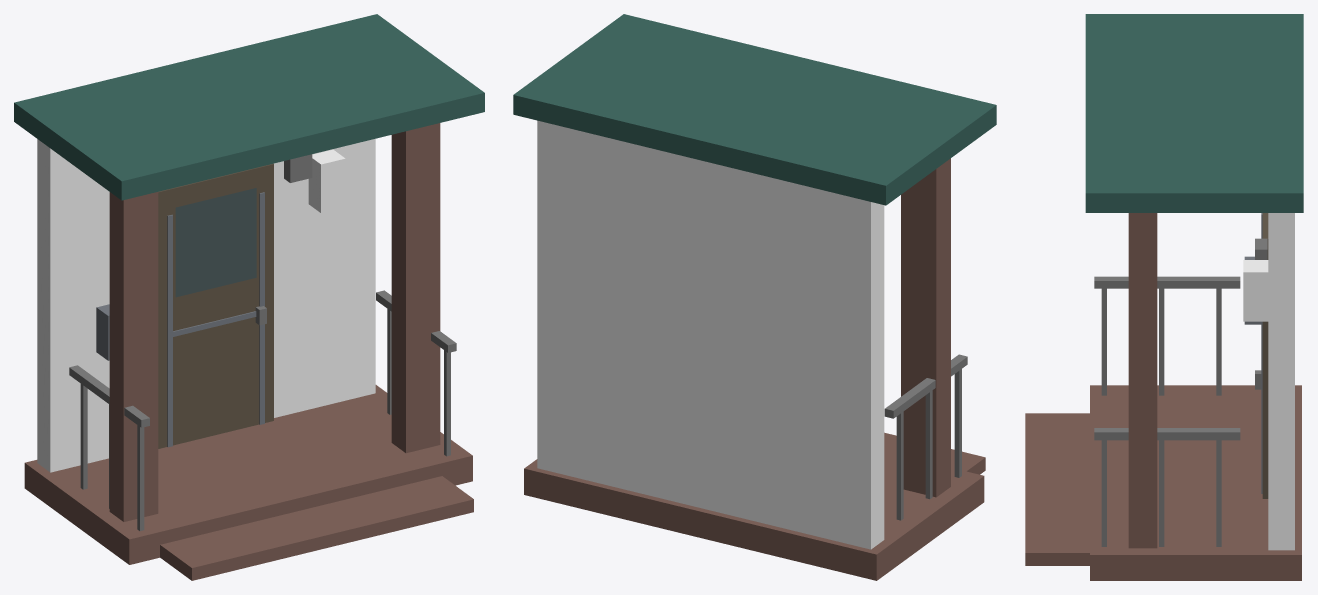
The model's file is entrance_close.fbx.
3 renders of one model, left to right at view 1: azimuth 30°, elevation 25°; view 2: azimuth 150°, elevation 25°; view 3: azimuth 270°, elevation 25°, orthographic. The views are drawn at different scales.
Parts seen in each view (by area): view 1: a2000/500/entrance_close; view 2: a2000/500/entrance_close; view 3: a2000/500/entrance_close.
Part boxes in pixels (x1=…): a2000/500/entrance_close: x1=14, y1=14, x2=484, y2=580; a2000/500/entrance_close: x1=513, y1=14, x2=996, y2=580; a2000/500/entrance_close: x1=1025, y1=14, x2=1303, y2=580.
Size of the model in its own units: 2.96 by 3.02 by 1.94.
